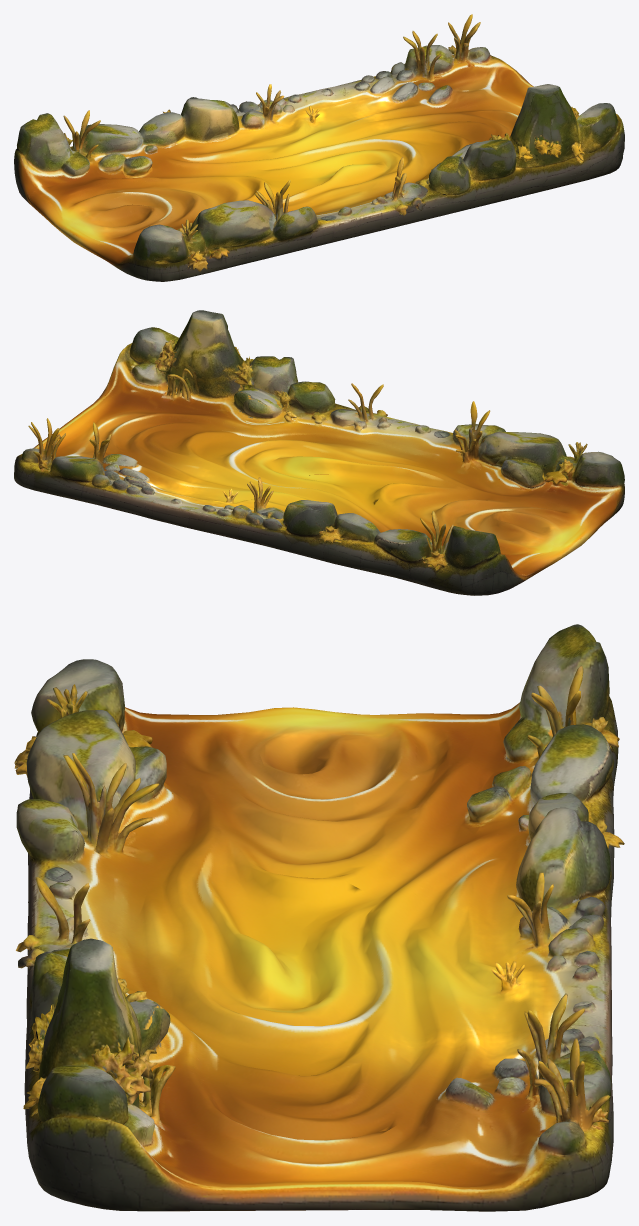
The model's file is River_of_Gold.fbx.
3 views of the same model, one above another, from view 1: azimuth 30°, elevation 25°; view 2: azimuth 150°, elevation 25°; view 3: azimuth 270°, elevation 25° (orthographic). The views are drawn at different scales.
Parts seen in each view (by area): view 1: River_of_Gold_LOD0; view 2: River_of_Gold_LOD0; view 3: River_of_Gold_LOD0.
Part boxes in pixels (left/top/right/bottom): River_of_Gold_LOD0: left=14, top=14, right=624, bottom=281; River_of_Gold_LOD0: left=14, top=310, right=624, bottom=595; River_of_Gold_LOD0: left=14, top=624, right=624, bottom=1211.
Size of what is drawn, in the model's own units: 1.9 by 0.3262 by 0.9989.
Materials: 1 (1 with a texture image).
